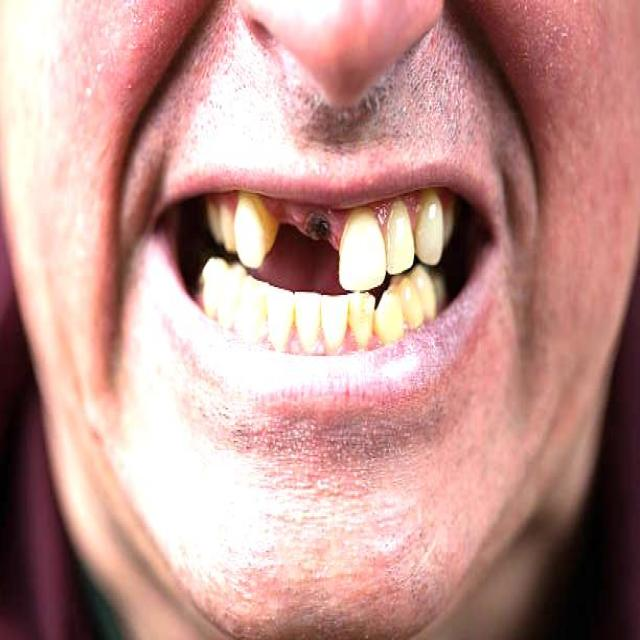caries: (303, 202, 338, 248)
